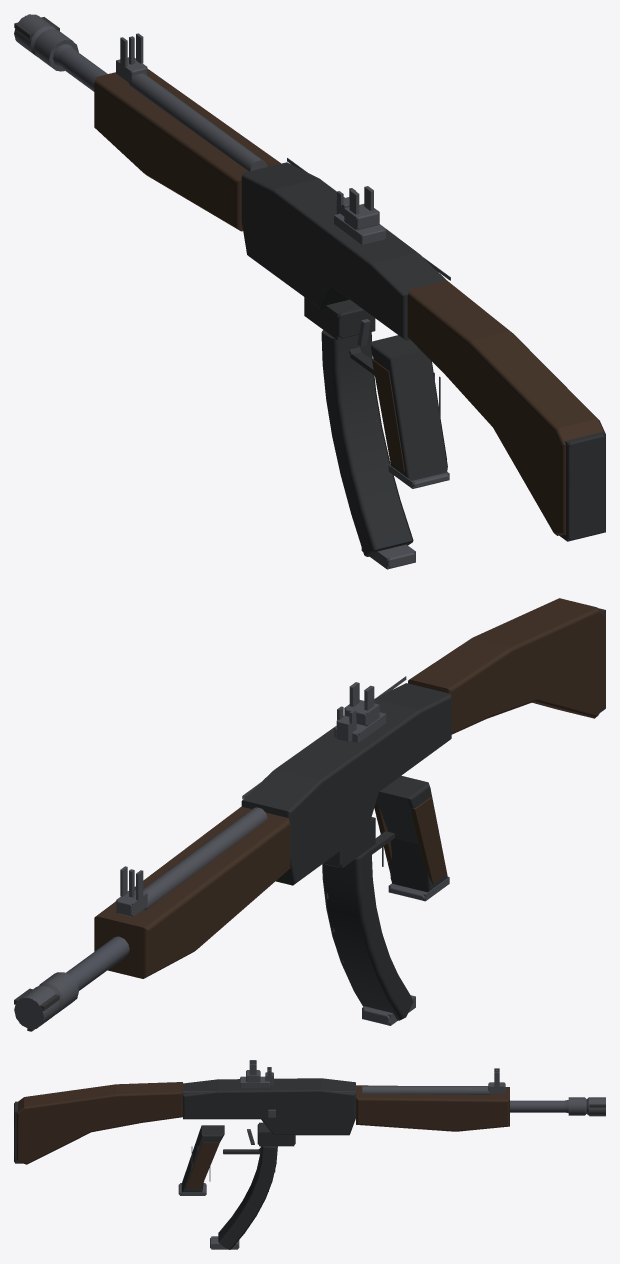
The model's file is carbine.glb.
3 renders of one model, top to bottom at view 1: azimuth 30°, elevation 25°; view 2: azimuth 150°, elevation 25°; view 3: azimuth 270°, elevation 25°, orthographic. The views are drawn at different scales.
Visible parts, largest first — view 1: L0, L1; view 2: L0, L1; view 3: L0, L1.
Part boxes in pixels (box(x1,y1,x2,y2)): L0: box(14, 14, 605, 568); L1: box(15, 15, 605, 569); L0: box(14, 598, 605, 1031); L1: box(14, 608, 605, 1029); L0: box(14, 1060, 605, 1249); L1: box(15, 1060, 605, 1249).
Bounding box in the file's own units: 0.0547 × 0.316 × 0.9238.
